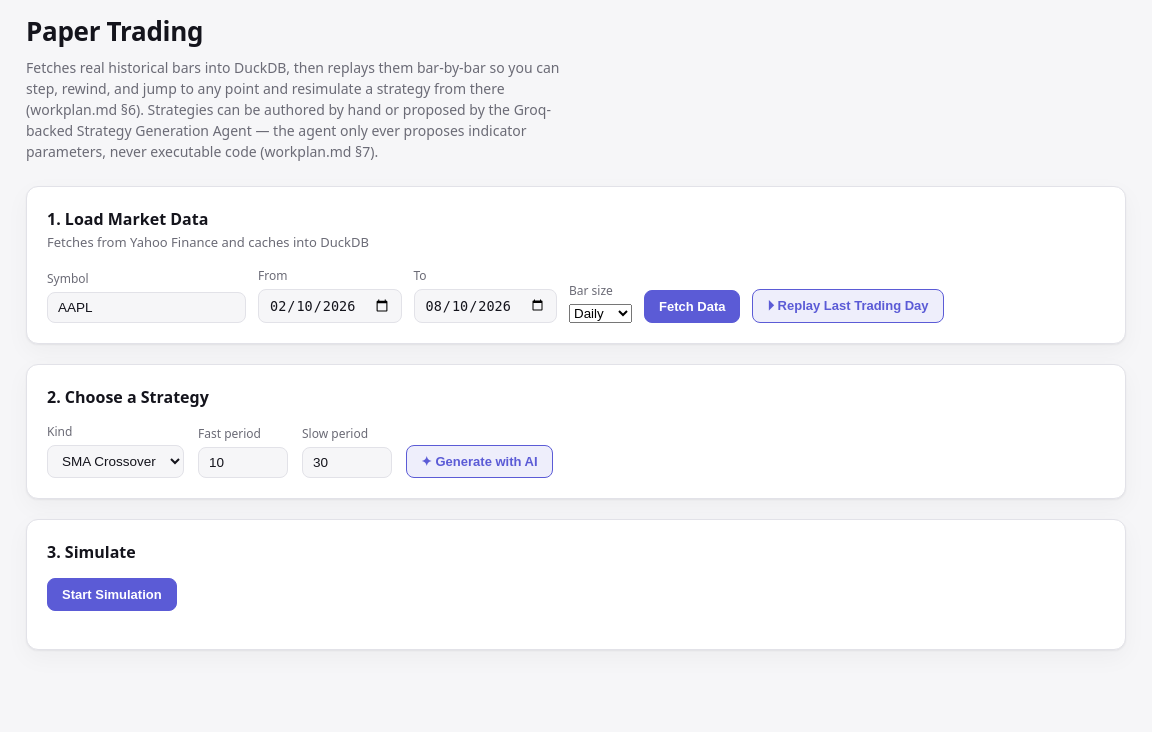
PaperTrading page › fetches market data and shows the stored bar count
The image size is (1152, 732).
Click the button "Fetch Data" at (692, 306), box [644,290,740,322]
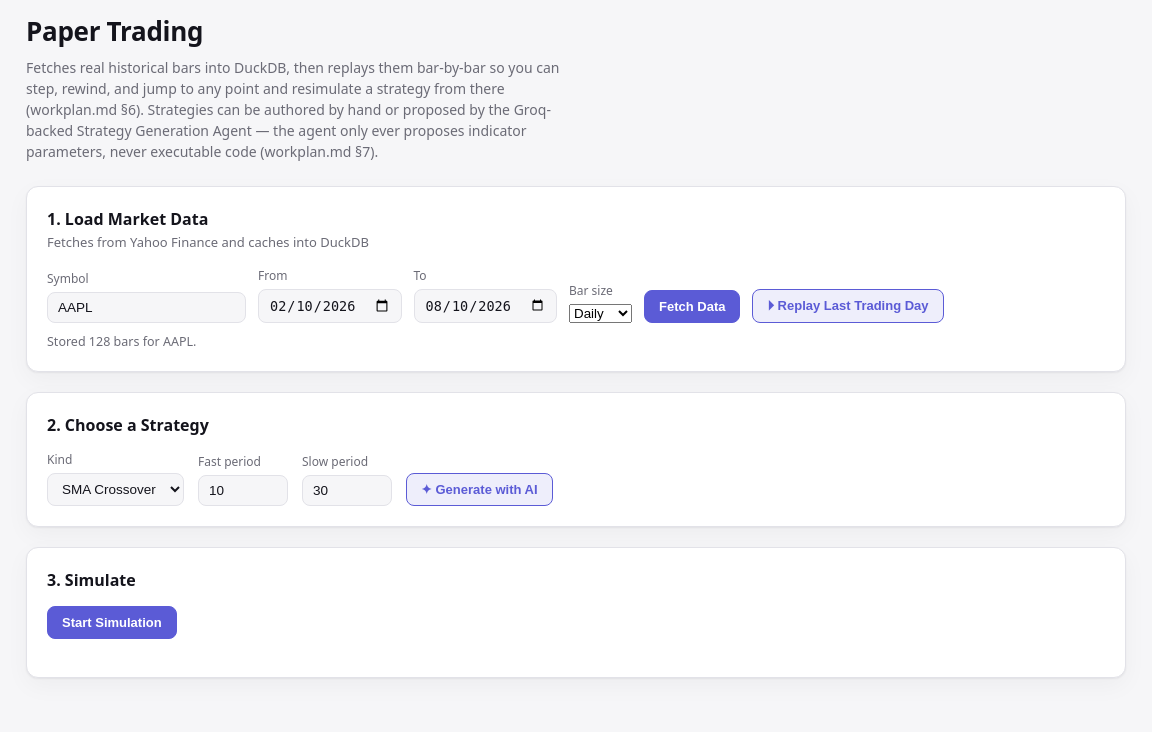
Check: the text "Stored 128 bars for AAPL." is shown, box [47,332,196,350]
